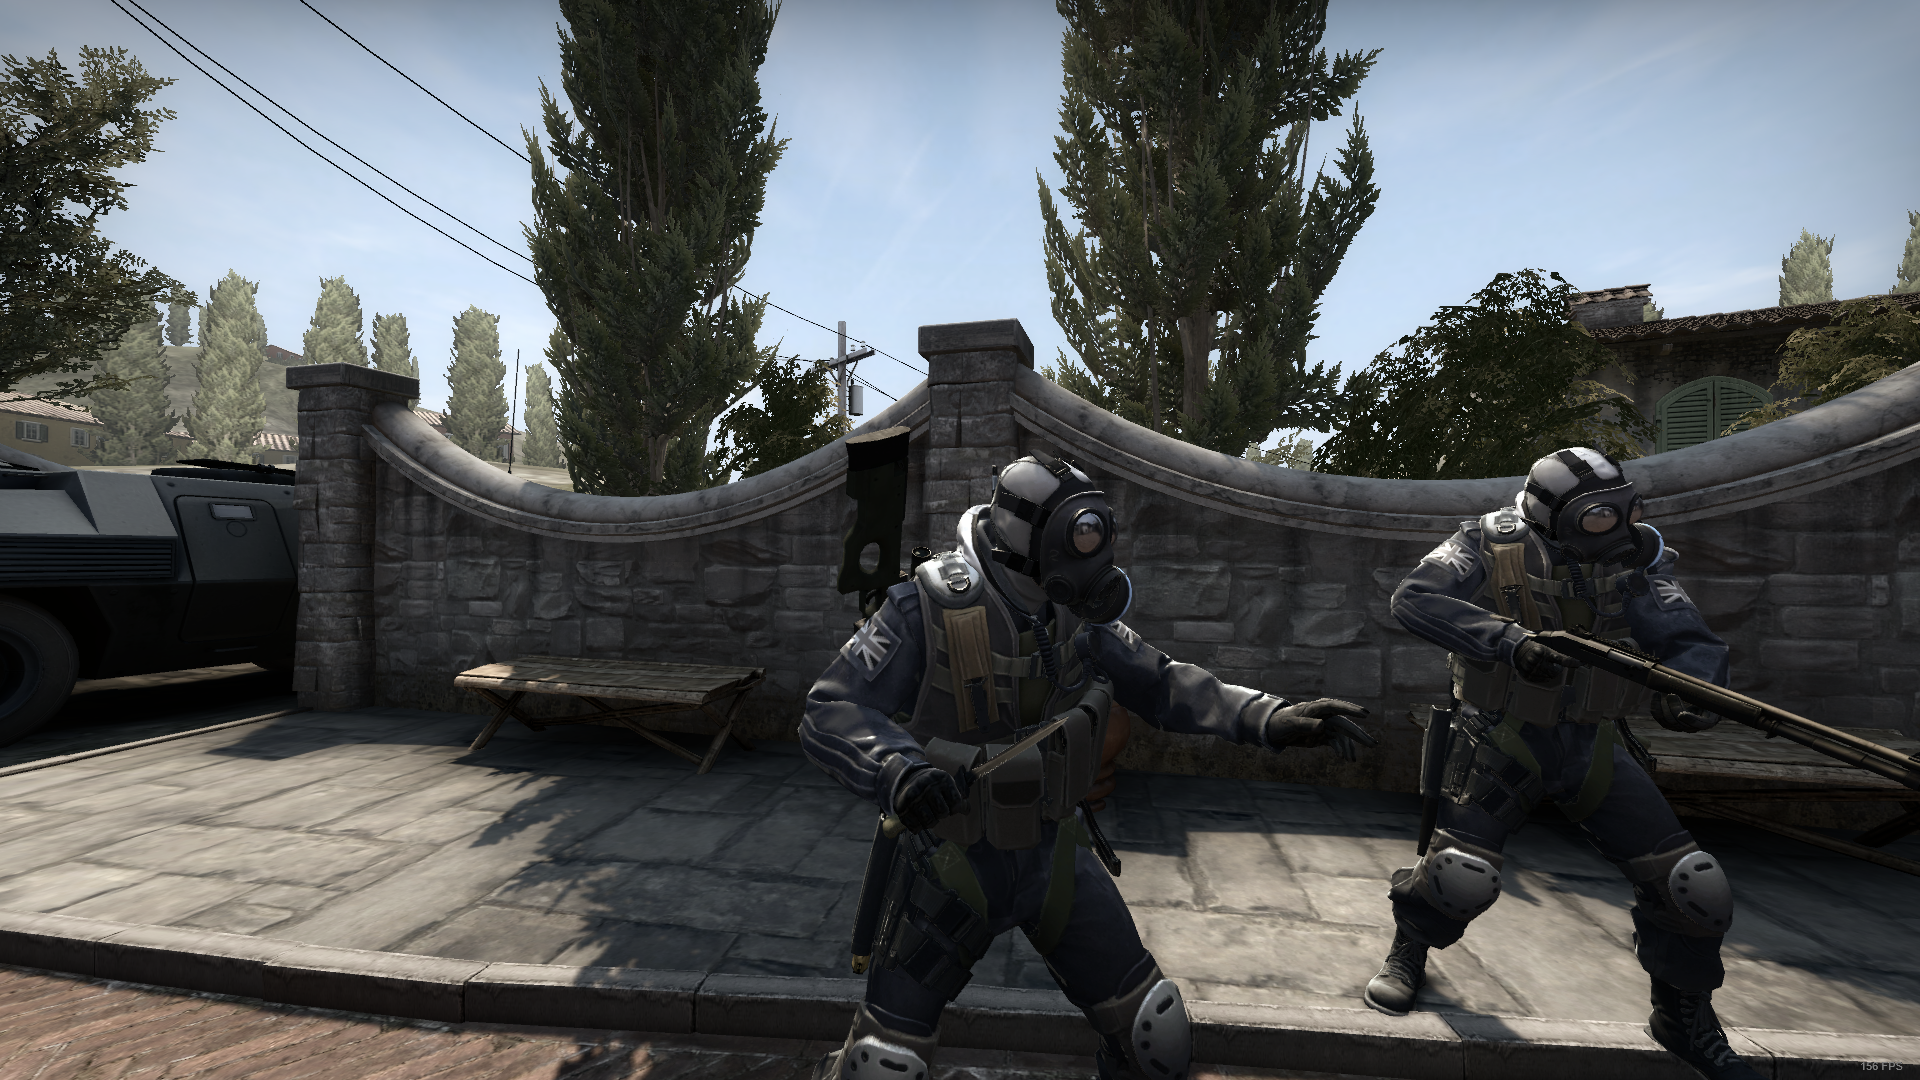ct: (793, 456, 1373, 1080), (1377, 442, 1756, 1080)
